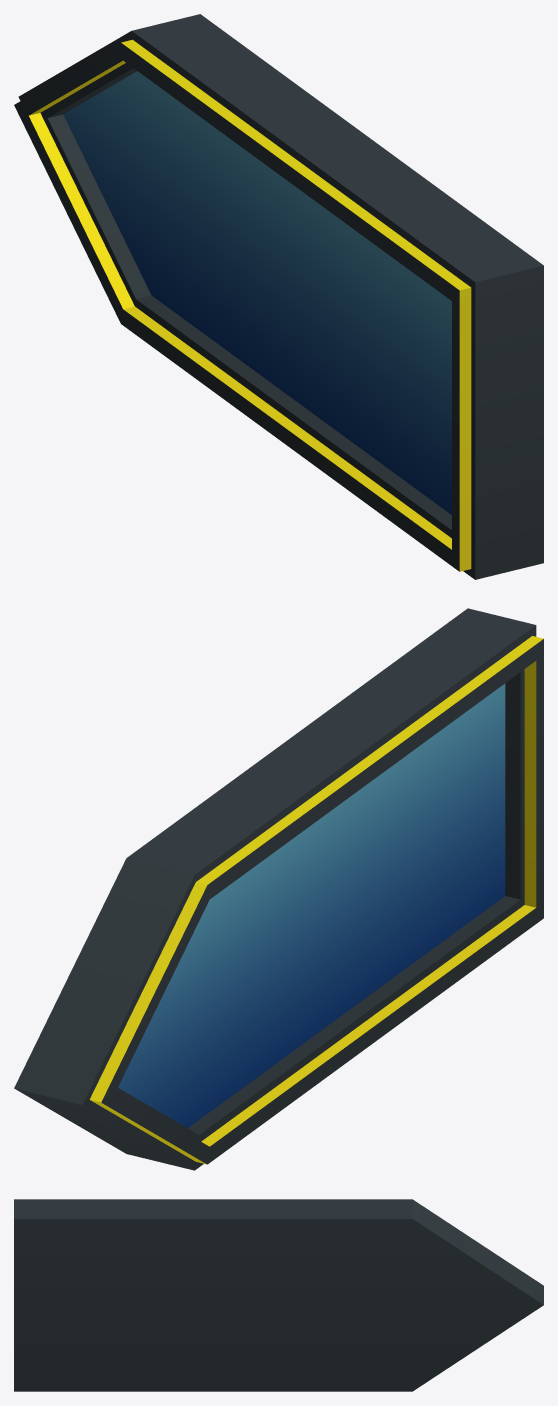
The model's file is Directions_Sign.fbx.
3 views of the same model, one above another, from view 1: azimuth 30°, elevation 25°; view 2: azimuth 150°, elevation 25°; view 3: azimuth 270°, elevation 25° (orthographic). The views are drawn at different scales.
Visible parts, largest first — view 1: Cube.044; view 2: Cube.044; view 3: Cube.044.
Boxes of the visible parts, left/top/right/bottom form: Cube.044: left=14, top=14, right=543, bottom=579; Cube.044: left=14, top=608, right=543, bottom=1170; Cube.044: left=14, top=1199, right=543, bottom=1391.
Bounding box in the file's own units: 15.86 × 56.03 × 156.
